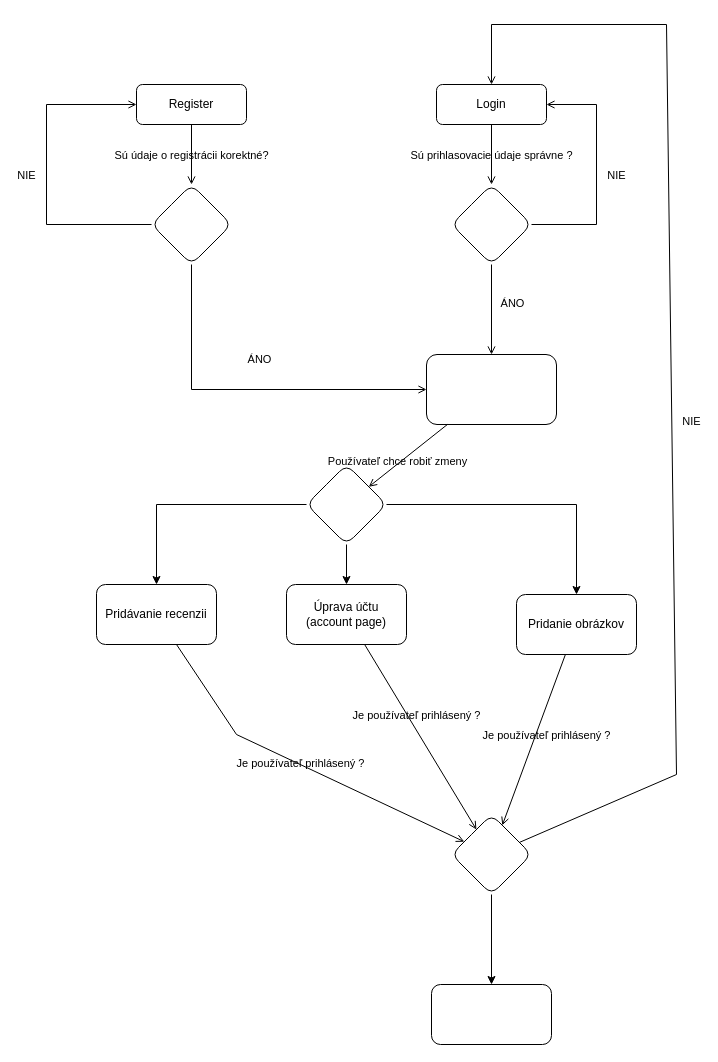
Image size: 718x1062. Some labels were removed from this diagram. Each missing label, with the centre of its shape:
Redirect na príslušnú stránku: the point at 491,1014
Úvodná Stránka: the point at 491,389
